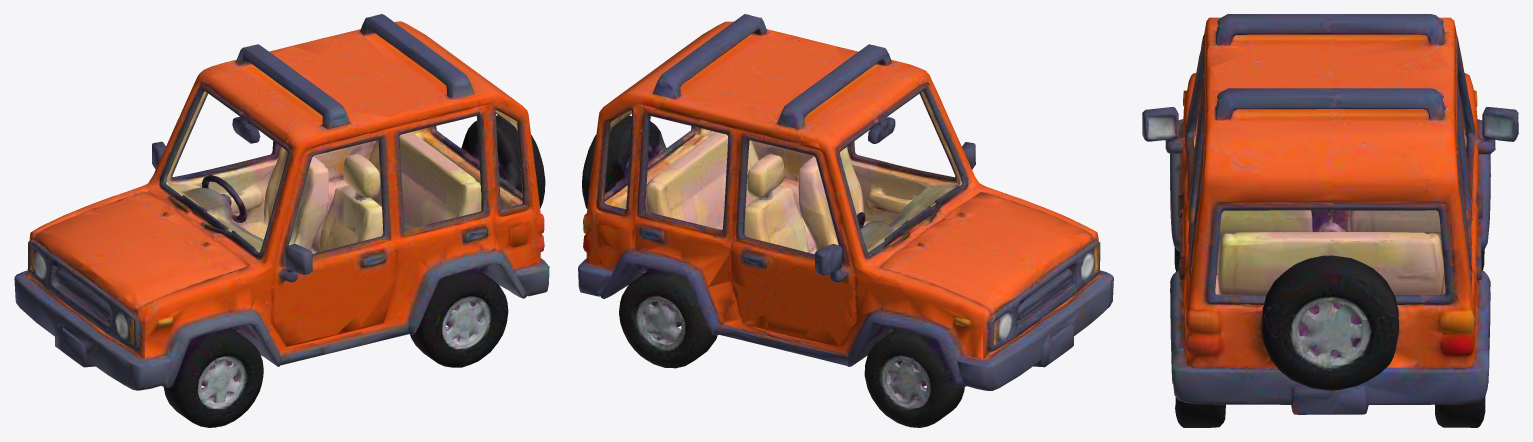
File: Meshy_AI_bluey_orange_car_0803173556_image-to-3d-texture.glb
The picture shows the model from 3 angles, left to right: view 1: azimuth 30°, elevation 25°; view 2: azimuth 150°, elevation 25°; view 3: azimuth 270°, elevation 25°; orthographic projection. The views are drawn at different scales.
Parts seen in each view (by area): view 1: Mesh_0; view 2: Mesh_0; view 3: Mesh_0.
Boxes of the visible parts, left/top/right/bottom form: Mesh_0: left=14, top=14, right=549, bottom=427; Mesh_0: left=578, top=14, right=1113, bottom=427; Mesh_0: left=1142, top=14, right=1518, bottom=427.
Size of the model in its own units: 2 by 1.16 by 1.17.
1 material, 1 textured.
